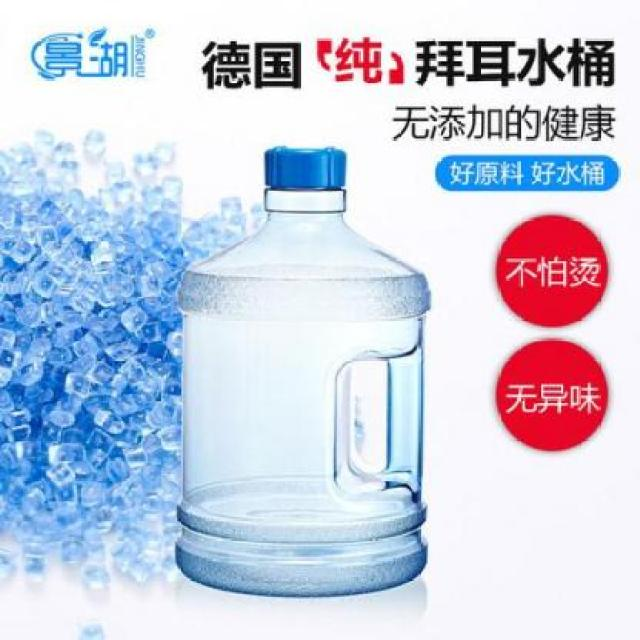coolerbottle: (171, 143, 440, 601)
